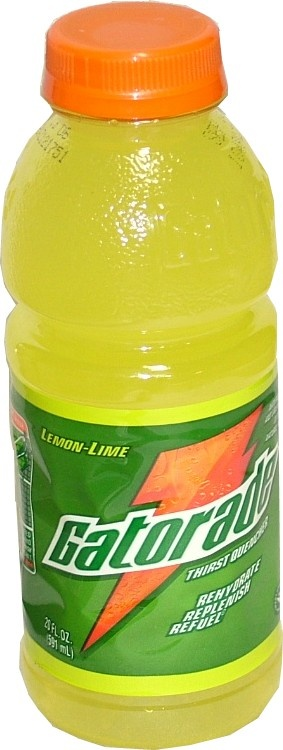grozi_15: (0, 0, 282, 749)
